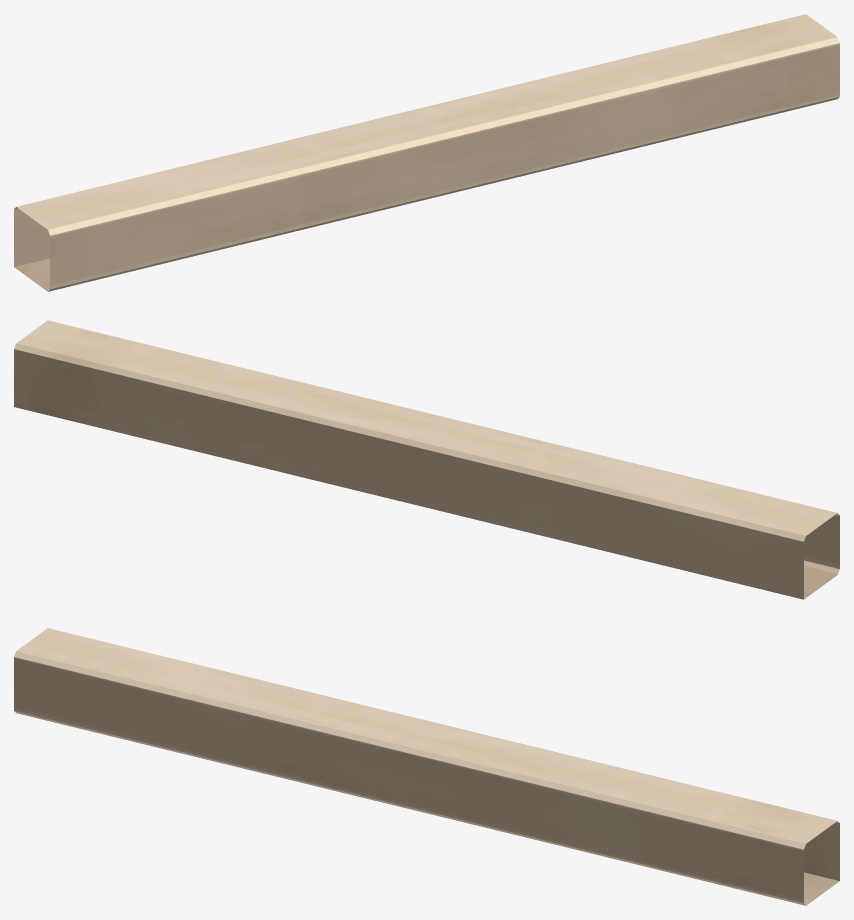
Rendered from SM_Roof_Top.FBX.
3 renders of one model, top to bottom at view 1: azimuth 30°, elevation 25°; view 2: azimuth 150°, elevation 25°; view 3: azimuth 330°, elevation 25°, orthographic.
Visible parts, largest first — view 1: SM_Roof_Top; view 2: SM_Roof_Top; view 3: SM_Roof_Top.
Boxes of the visible parts, x1,y1,x2,y2 form: SM_Roof_Top: [14, 14, 839, 291]; SM_Roof_Top: [14, 320, 839, 599]; SM_Roof_Top: [14, 628, 839, 905].
Bounding box in the file's own units: 200 × 15.85 × 15.
